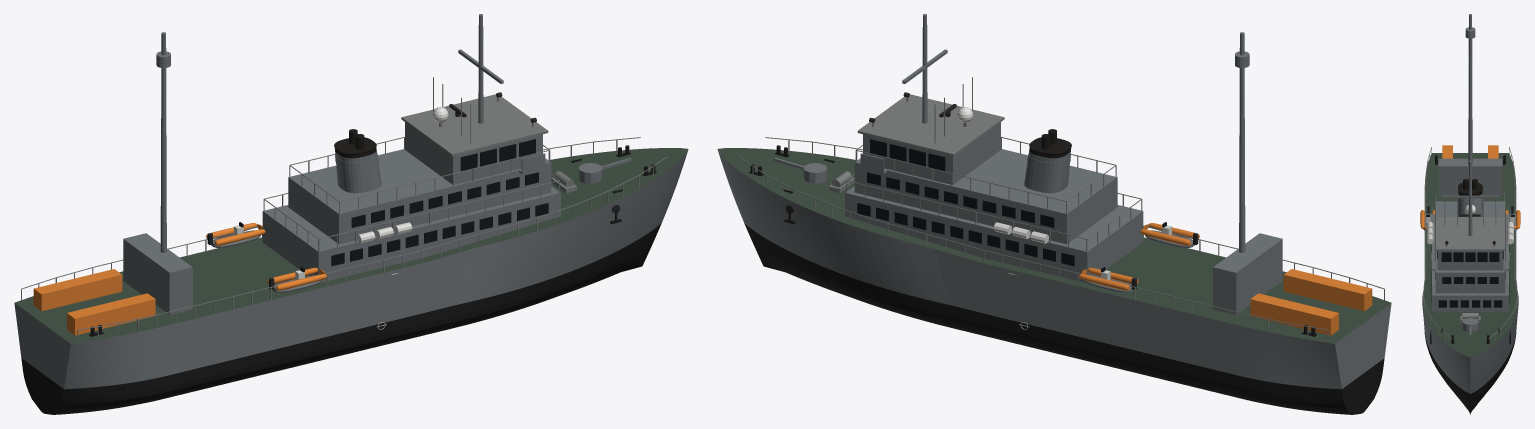
Rendered from mcmv55.glb.
The picture shows the model from 3 angles, left to right: view 1: azimuth 30°, elevation 25°; view 2: azimuth 150°, elevation 25°; view 3: azimuth 270°, elevation 25°; orthographic projection. The views are drawn at different scales.
Parts seen in each view (by area): view 1: mcmv55; view 2: mcmv55; view 3: mcmv55.
Part boxes in pixels (left/top/right/bottom): mcmv55: left=14, top=14, right=688, bottom=414; mcmv55: left=717, top=14, right=1391, bottom=414; mcmv55: left=1420, top=14, right=1520, bottom=414.
Bounding box in the file's own units: 56 × 29 × 10.99.
